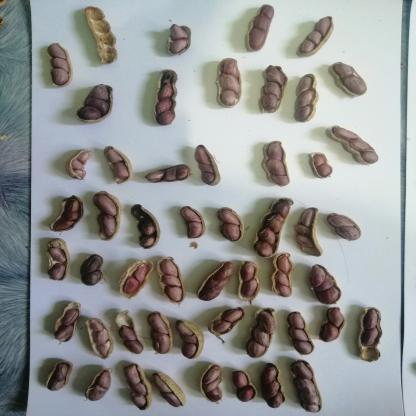Empty: (84, 5, 122, 65)
Four: (254, 197, 291, 260), (292, 359, 330, 415), (156, 70, 183, 129)
Three: (328, 124, 380, 166), (210, 58, 248, 111), (76, 83, 122, 125), (296, 16, 340, 58), (308, 263, 346, 308), (244, 5, 278, 54), (199, 260, 234, 307), (246, 306, 278, 357), (295, 207, 326, 259), (257, 65, 289, 113), (158, 256, 188, 307), (262, 141, 293, 189), (122, 363, 151, 412), (50, 195, 86, 234), (286, 312, 317, 356), (296, 74, 322, 125), (261, 364, 288, 412), (195, 145, 225, 188), (175, 320, 207, 360), (46, 44, 74, 89), (198, 364, 226, 406), (87, 318, 114, 361), (146, 165, 196, 187), (271, 253, 294, 299), (63, 149, 93, 182)
Two: (355, 306, 387, 364), (129, 204, 165, 251), (115, 310, 147, 358), (152, 372, 190, 412), (330, 61, 370, 98), (95, 192, 124, 243), (116, 259, 154, 297), (103, 146, 136, 186), (52, 302, 83, 344), (148, 313, 175, 355), (82, 369, 115, 403), (238, 259, 262, 305), (208, 308, 246, 337), (47, 240, 73, 282), (78, 254, 110, 288), (328, 212, 364, 242), (230, 369, 259, 406), (217, 208, 247, 243), (321, 308, 348, 344), (179, 206, 207, 240), (167, 23, 195, 57), (45, 363, 75, 393), (308, 153, 335, 181)
